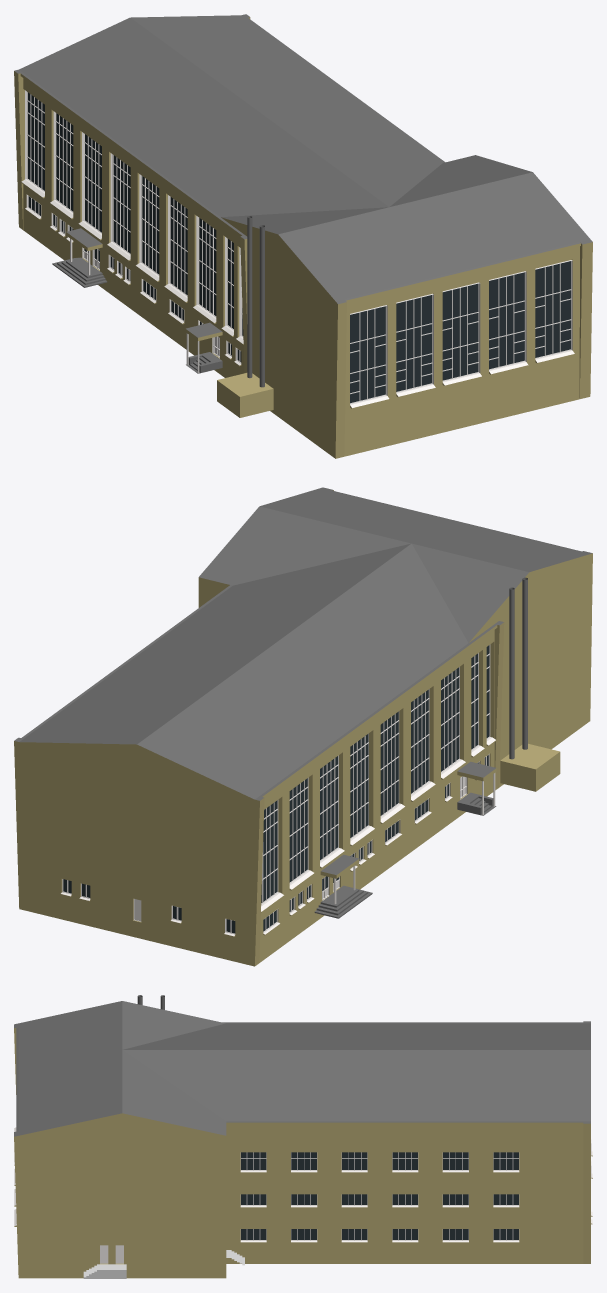
The model's file is Pool.glb.
3 views of the same model, one above another, from view 1: azimuth 30°, elevation 25°; view 2: azimuth 150°, elevation 25°; view 3: azimuth 270°, elevation 25° (orthographic). The views are drawn at different scales.
Parts seen in each view (by area): view 1: Бас, Бас_Окно_2х3.028, Бас_Окно_2х3.018, Бас_котельная, Бас_крыльцо, Бас_Крыльцо, Бас_Окно_2х3.020; view 2: Бас, Бас_Окно_2х3.018, Бас_котельная, Бас_крыльцо, Бас_Крыльцо, Бас_Окно_2х3.020; view 3: Бас, Бас_Окно_2х3.030, Бас_Окно_2х3.031, Бас_ступени.
Part boxes in pixels (x1,y1,x2,y2): Бас: (14, 14, 592, 458); Бас_Окно_2х3.028: (350, 260, 574, 408); Бас_Окно_2х3.018: (21, 90, 216, 323); Бас_котельная: (217, 216, 273, 417); Бас_крыльцо: (52, 228, 107, 287); Бас_Крыльцо: (185, 322, 222, 373); Бас_Окно_2х3.020: (221, 237, 233, 336); Бас: (14, 487, 592, 966); Бас_Окно_2х3.018: (261, 667, 465, 912); Бас_котельная: (500, 577, 560, 791); Бас_крыльцо: (314, 854, 372, 918); Бас_Крыльцо: (457, 761, 496, 815); Бас_Окно_2х3.020: (471, 653, 484, 757); Бас: (14, 1001, 590, 1278); Бас_Окно_2х3.030: (240, 1194, 519, 1242); Бас_Окно_2х3.031: (240, 1152, 519, 1172); Бас_ступени: (83, 1264, 126, 1278).
Bounding box in the file's own units: 5.28 × 3.09 × 9.71.
